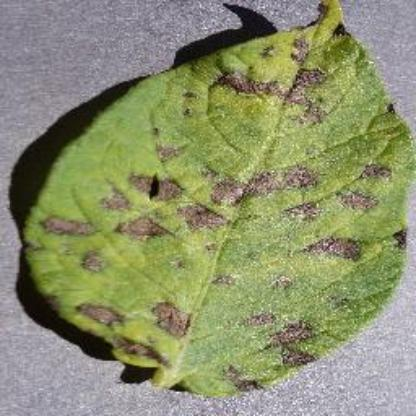Early-Blight: (22, 0, 412, 398)
